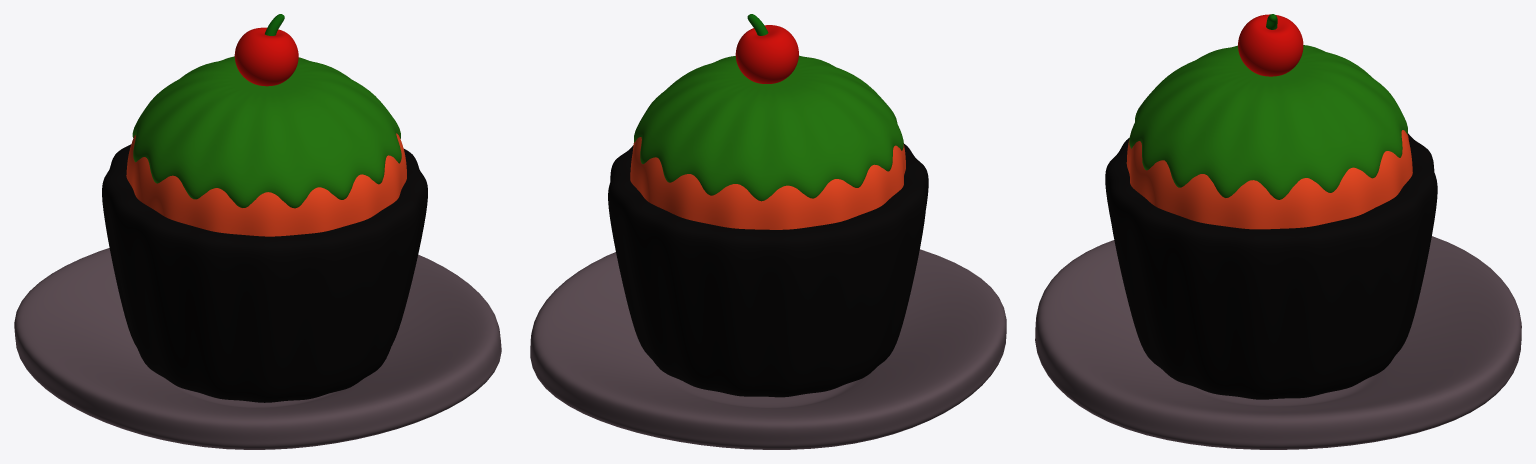
The model's file is cake.obj.
3 renders of one model, left to right at view 1: azimuth 30°, elevation 25°; view 2: azimuth 150°, elevation 25°; view 3: azimuth 270°, elevation 25°, orthographic. The views are drawn at different scales.
Visible parts, largest first — view 1: Cylinder.005, Cube.011, Cylinder.002, Cylinder.004, Sphere; view 2: Cylinder.005, Cube.011, Cylinder.002, Cylinder.004, Sphere; view 3: Cylinder.005, Cube.011, Cylinder.002, Cylinder.004, Sphere.
Part boxes in pixels (x1,y1,x2,y2): Cylinder.005: (102,144,427,402); Cube.011: (14,248,501,449); Cylinder.002: (132,56,401,208); Cylinder.004: (126,133,406,236); Sphere: (234,27,298,86); Cylinder.005: (608,143,928,397); Cube.011: (530,249,1006,449); Cylinder.002: (634,55,903,201); Cylinder.004: (630,137,905,229); Sphere: (735,25,798,83); Cylinder.005: (1105,133,1437,399); Cube.011: (1035,236,1521,449); Cylinder.002: (1129,45,1407,199); Cylinder.004: (1126,130,1412,229); Sphere: (1238,14,1303,76).
Bounding box in the file's own units: 2.47 × 2.16 × 2.47.
